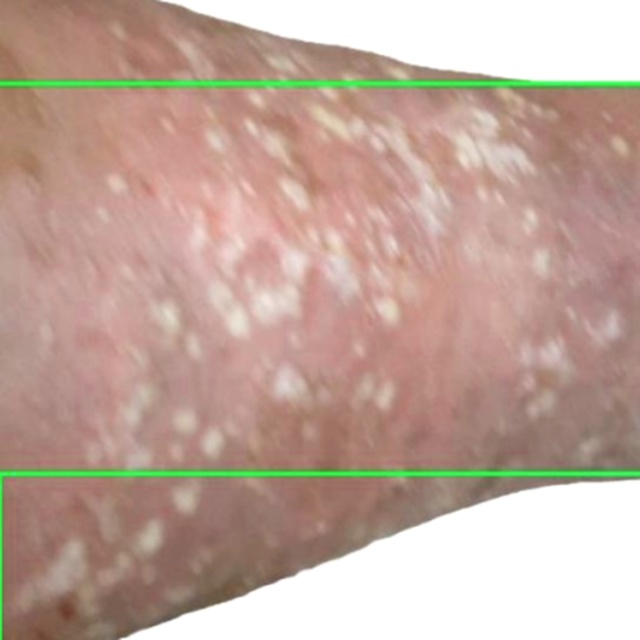Eczema: (0, 475, 639, 639)
